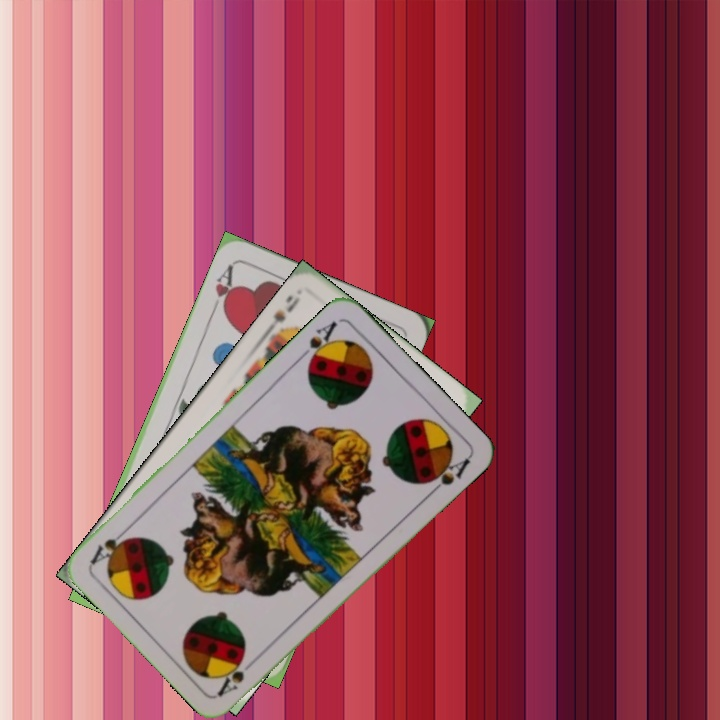HA: (206, 260, 238, 317)
S9: (260, 290, 303, 341)
SA: (294, 316, 340, 370), (213, 653, 262, 699)
